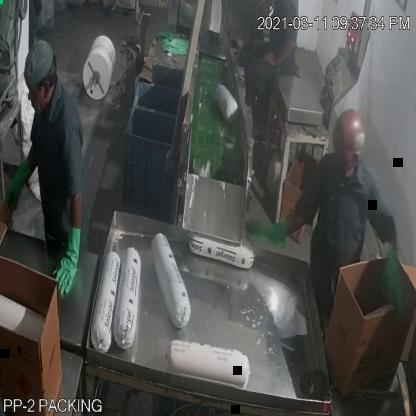glove: (247, 204, 296, 261), (382, 240, 406, 324)
no_glove: (262, 35, 298, 77)
